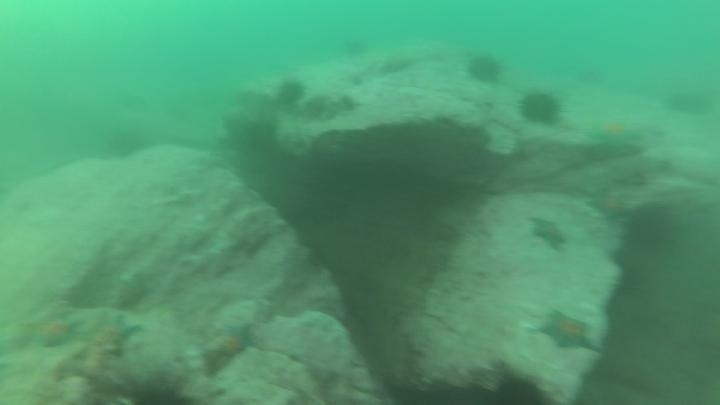echinus: (622, 201, 678, 255), (516, 87, 566, 130), (234, 117, 280, 161), (101, 124, 151, 163), (491, 372, 548, 405), (663, 86, 714, 120), (464, 51, 505, 88), (274, 77, 308, 110), (301, 93, 333, 124), (340, 35, 371, 61)
starfish: (532, 308, 601, 356), (80, 310, 144, 358), (205, 320, 259, 366), (25, 312, 83, 352), (586, 116, 645, 153), (585, 189, 635, 224), (527, 215, 570, 255)
